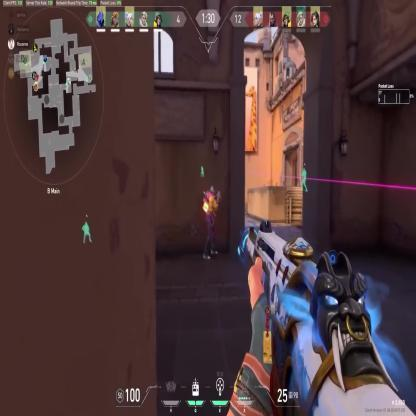enemy: (203, 184, 221, 262)
enemy_head: (209, 186, 214, 194)
